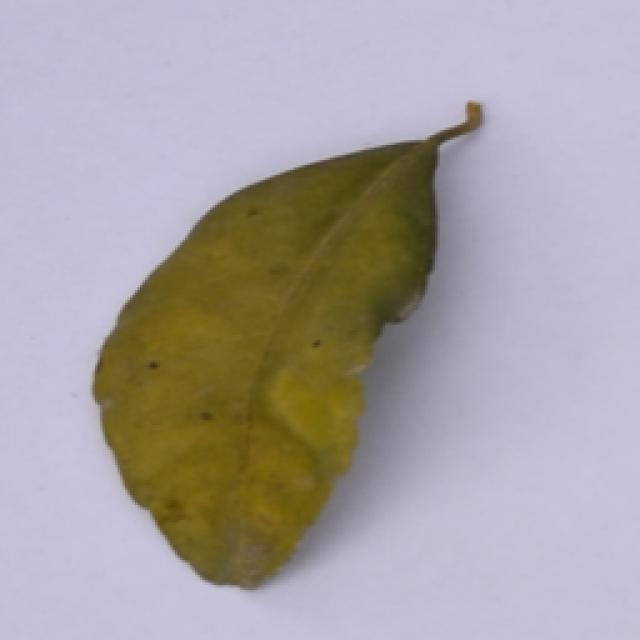blackspot: (91, 94, 504, 584)
